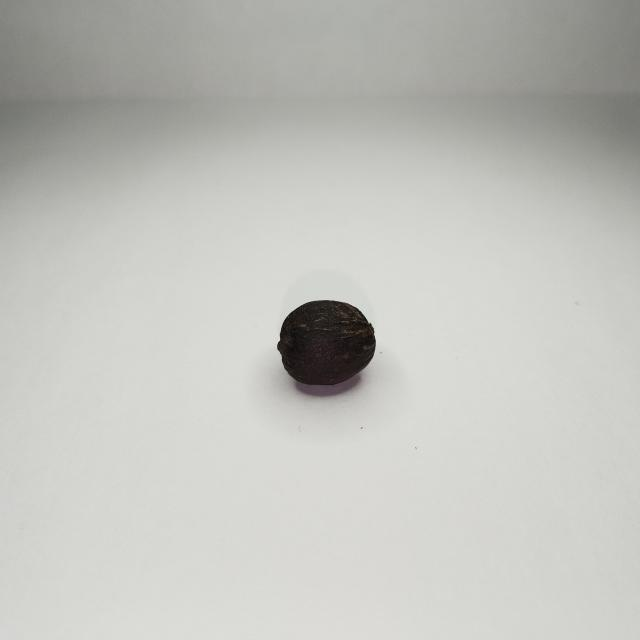Danado: (276, 300, 376, 392)
